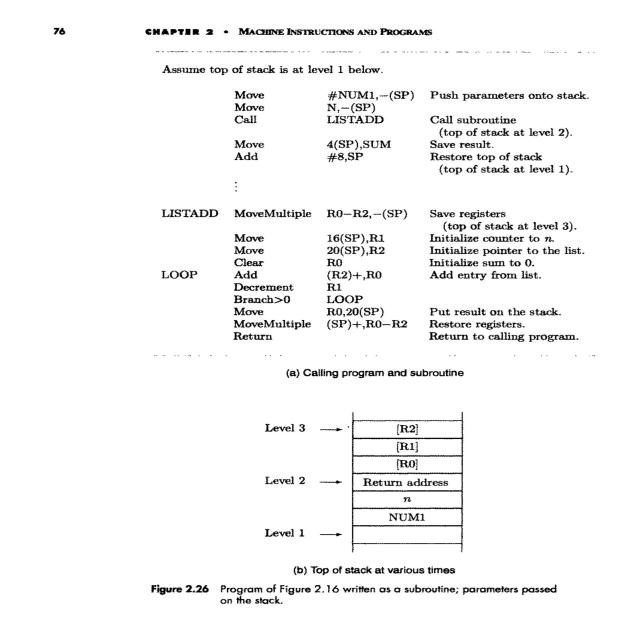diagram: (108, 398, 602, 612)
